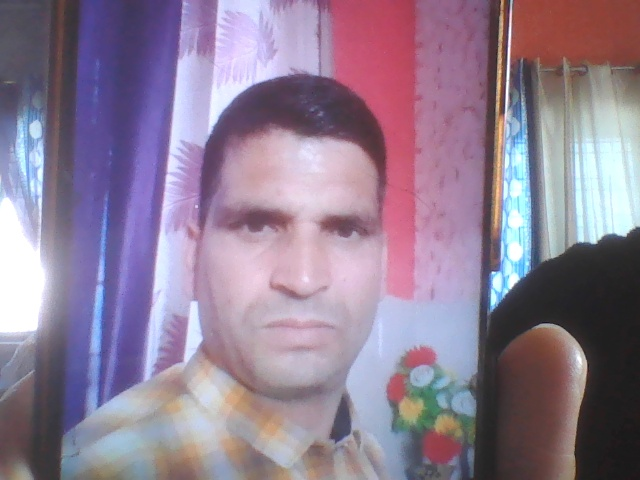fake: (169, 53, 418, 406)
